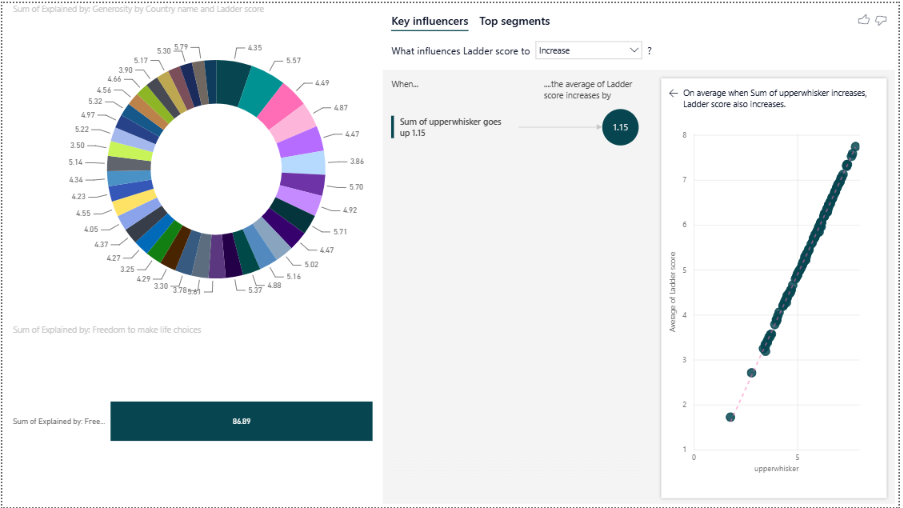

This screenshot's page, from the dashboard's own definition file:
{"tool":"powerbi","page":{"name":"HAPPNINESS","canvas":[1280,720],"ordinal":1},"visuals":[{"type":"donutChart","fields":{"Category":["WHR2024.Country name"],"Y":["Sum(WHR2024.Explained by: Generosity)"],"Series":["WHR2024.Ladder score"]},"box":[10,0,591.4,458.6],"z":0},{"type":"keyDriversVisual","fields":{"Target":["WHR2024.Ladder score"],"ExplainBy":["Sum(WHR2024.upperwhisker)"]},"box":[538.6,0,741.4,720],"z":1},{"type":"funnel","fields":{"Y":["Sum(WHR2024.Explained by: Freedom to make life choices)"]},"box":[10,459,529,261],"z":2}]}

Visuals, with their boxes in screenshot pixels (x1, y1, x2, y2), scaled from the page's 1280x720 canvas onto the 903x508 screenshot:
donutChart - WHR2024.Country name x Sum(WHR2024.Explained by: Generosity): select_region(7, 0, 424, 324)
keyDriversVisual - WHR2024.Ladder score x Sum(WHR2024.upperwhisker): select_region(380, 0, 902, 507)
funnel - Sum(WHR2024.Explained by: Freedom to make life choices): select_region(7, 324, 380, 507)
